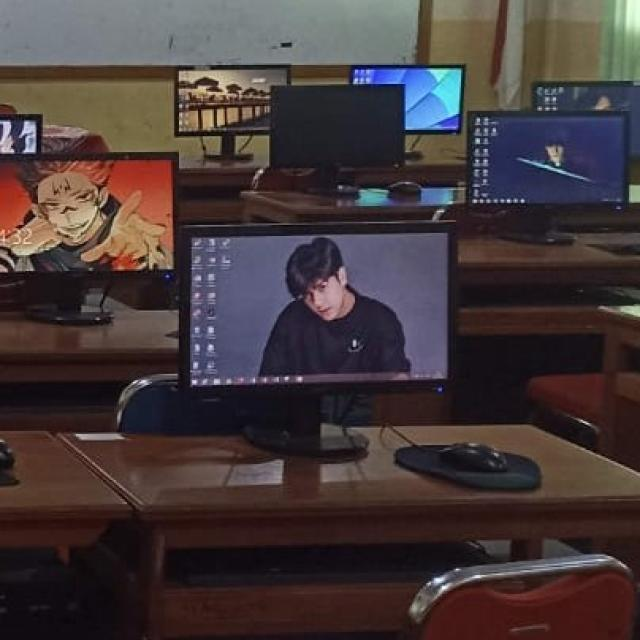offscreen: (270, 85, 405, 167)
onscreen: (181, 226, 454, 388), (0, 155, 176, 272), (469, 112, 629, 204), (176, 67, 290, 136), (351, 65, 464, 134), (532, 81, 640, 111)
